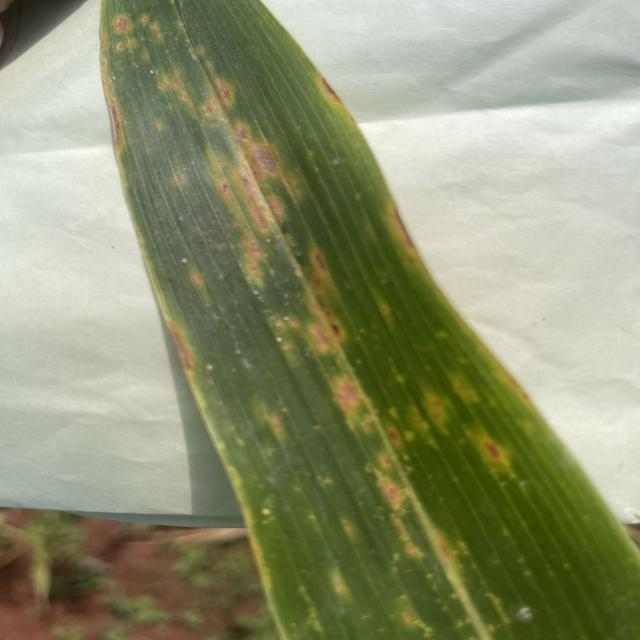millet_rust: (93, 2, 640, 640)
